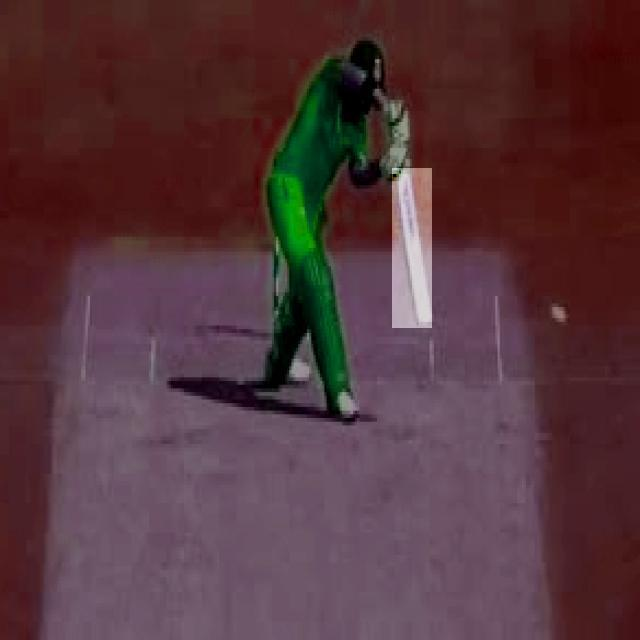bat: (394, 168, 435, 328)
toe: (389, 308, 450, 335)
